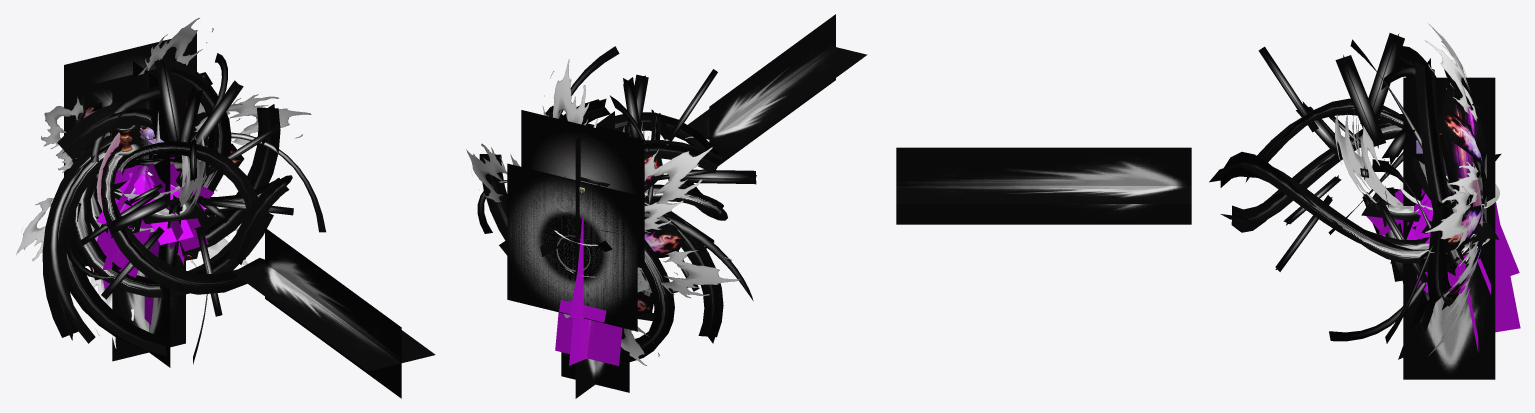
The picture shows the model from 3 angles, left to right: view 1: azimuth 30°, elevation 25°; view 2: azimuth 150°, elevation 25°; view 3: azimuth 270°, elevation 25°; orthographic projection. The views are drawn at different scales.
Visible parts, largest first — view 1: "Editable Poly@#26", Plane38, Plane16, Plane43, Plane195, Plane185, "Editable Poly@#44", Plane169, Plane04, Plane611, Plane163, Plane159 (+7 smaller); view 2: Plane90, "Editable Poly@#26", Plane04, Plane105, Plane169, Plane43, "Editable Poly@#44", Plane195, Plane38, Plane16, Plane185, Plane153 (+4 smaller); view 3: "Editable Poly@#26", Plane195, Plane16, Plane185, "Editable Poly@#44", Plane38, Plane43, Plane611, Plane169, Plane06, Plane153, Plane08 (+6 smaller).
Boxes of the visible parts, <box> form: "Editable Poly@#26": <box>231,227,435,398</box>; Plane38: <box>42,57,273,340</box>; Plane16: <box>100,141,292,294</box>; Plane43: <box>57,102,280,355</box>; Plane195: <box>112,61,185,367</box>; Plane185: <box>101,58,293,316</box>; "Editable Poly@#44": <box>96,157,213,324</box>; Plane169: <box>16,18,311,348</box>; Plane04: <box>64,33,196,176</box>; Plane611: <box>80,80,243,267</box>; Plane163: <box>49,132,325,364</box>; Plane159: <box>62,53,227,279</box>; Plane90: <box>507,163,637,331</box>; "Editable Poly@#26": <box>688,14,867,165</box>; Plane04: <box>521,110,644,268</box>; Plane105: <box>512,170,633,325</box>; Plane169: <box>466,59,739,365</box>; Plane43: <box>479,140,722,361</box>; "Editable Poly@#44": <box>555,215,622,365</box>; Plane195: <box>561,111,629,398</box>; Plane38: <box>499,98,723,343</box>; Plane16: <box>585,109,727,247</box>; Plane185: <box>623,69,756,291</box>; Plane153: <box>637,151,685,312</box>; "Editable Poly@#26": <box>896,147,1191,224</box>; Plane195: <box>1403,77,1495,379</box>; Plane16: <box>1209,98,1482,263</box>; Plane185: <box>1258,33,1427,283</box>; "Editable Poly@#44": <box>1366,174,1520,352</box>; Plane38: <box>1390,58,1467,332</box>; Plane43: <box>1395,46,1484,359</box>; Plane611: <box>1329,55,1415,283</box>; Plane169: <box>1425,24,1470,355</box>; Plane06: <box>1335,111,1403,209</box>; Plane153: <box>1441,69,1484,309</box>; Plane08: <box>1442,90,1487,193</box>.
Bounding box in the file's own units: 6.25 × 6.59 × 10.15.
